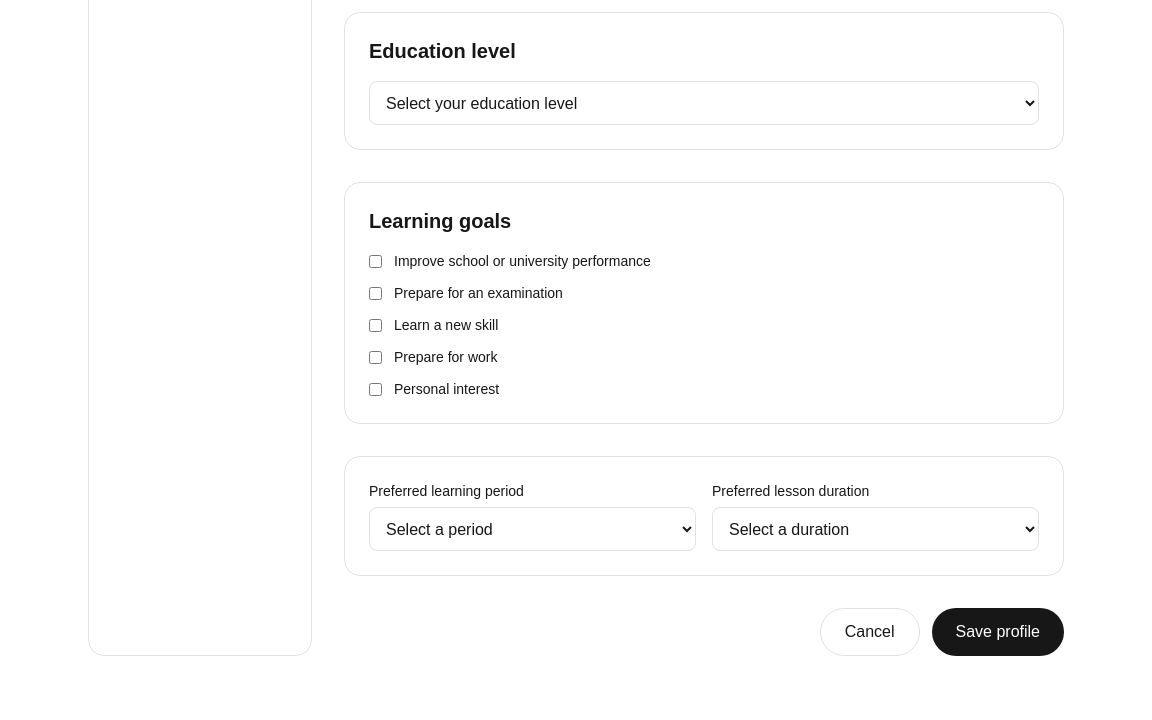
StudentSettingsPage › blocks submission when required Student-preference sections are incomplete
(page scrolled)
What coordinates should you click on to do the following:
click the button "Save profile"
I would click on:
 (998, 632)
Its box is [932,608,1064,656].
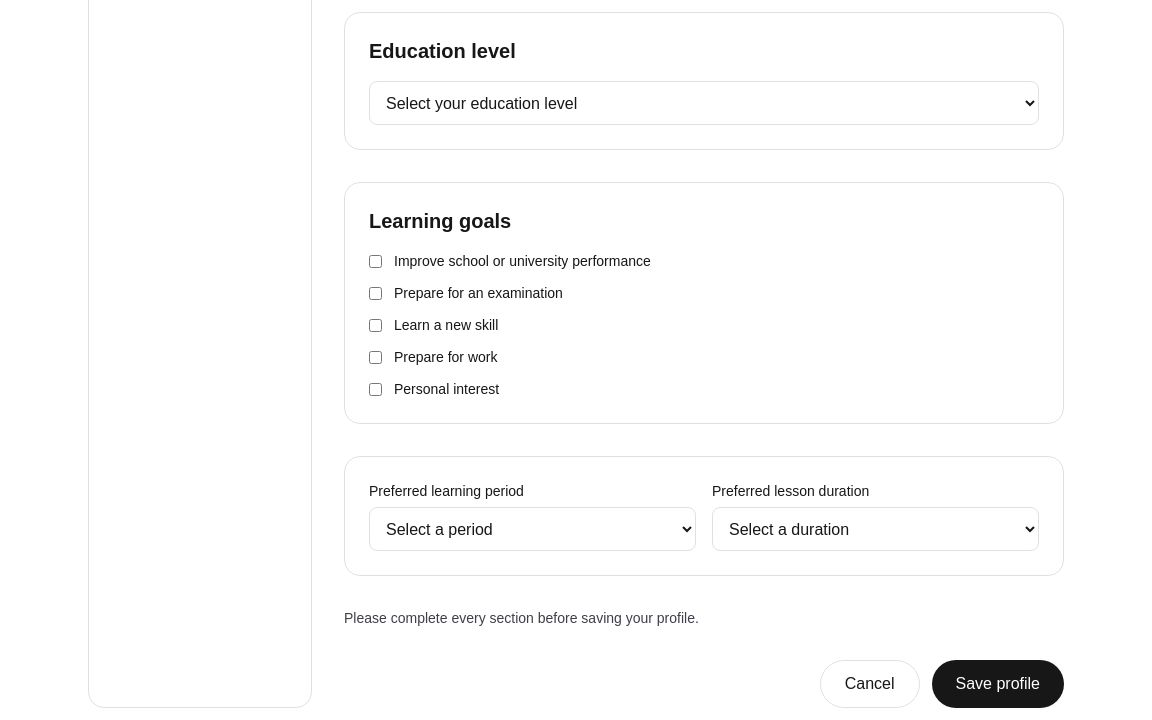
Expected: the text "Please complete every section before saving your profile." is shown, [344,610,699,626]
